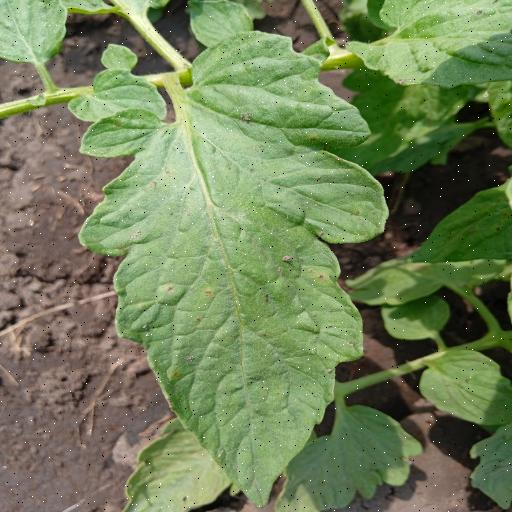Tomato_Mildiou: (50, 27, 399, 512)
